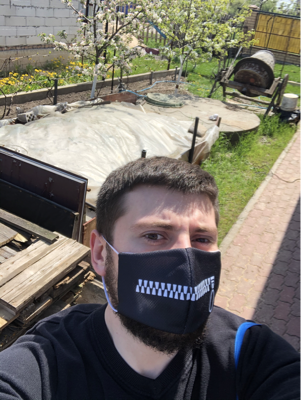with_mask: (116, 207, 222, 354)
